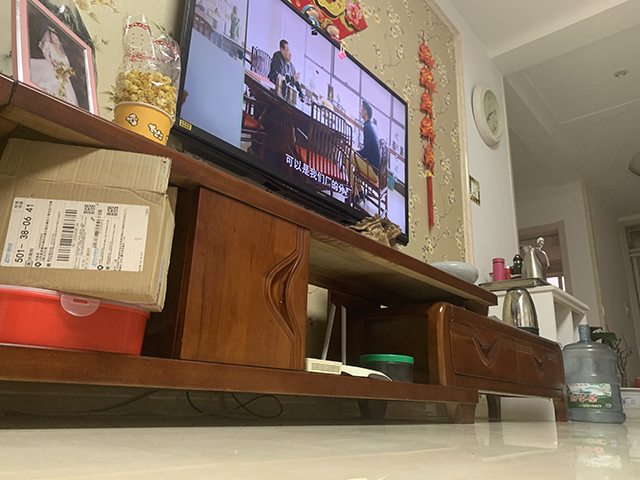cabinet: (1, 70, 570, 425)
